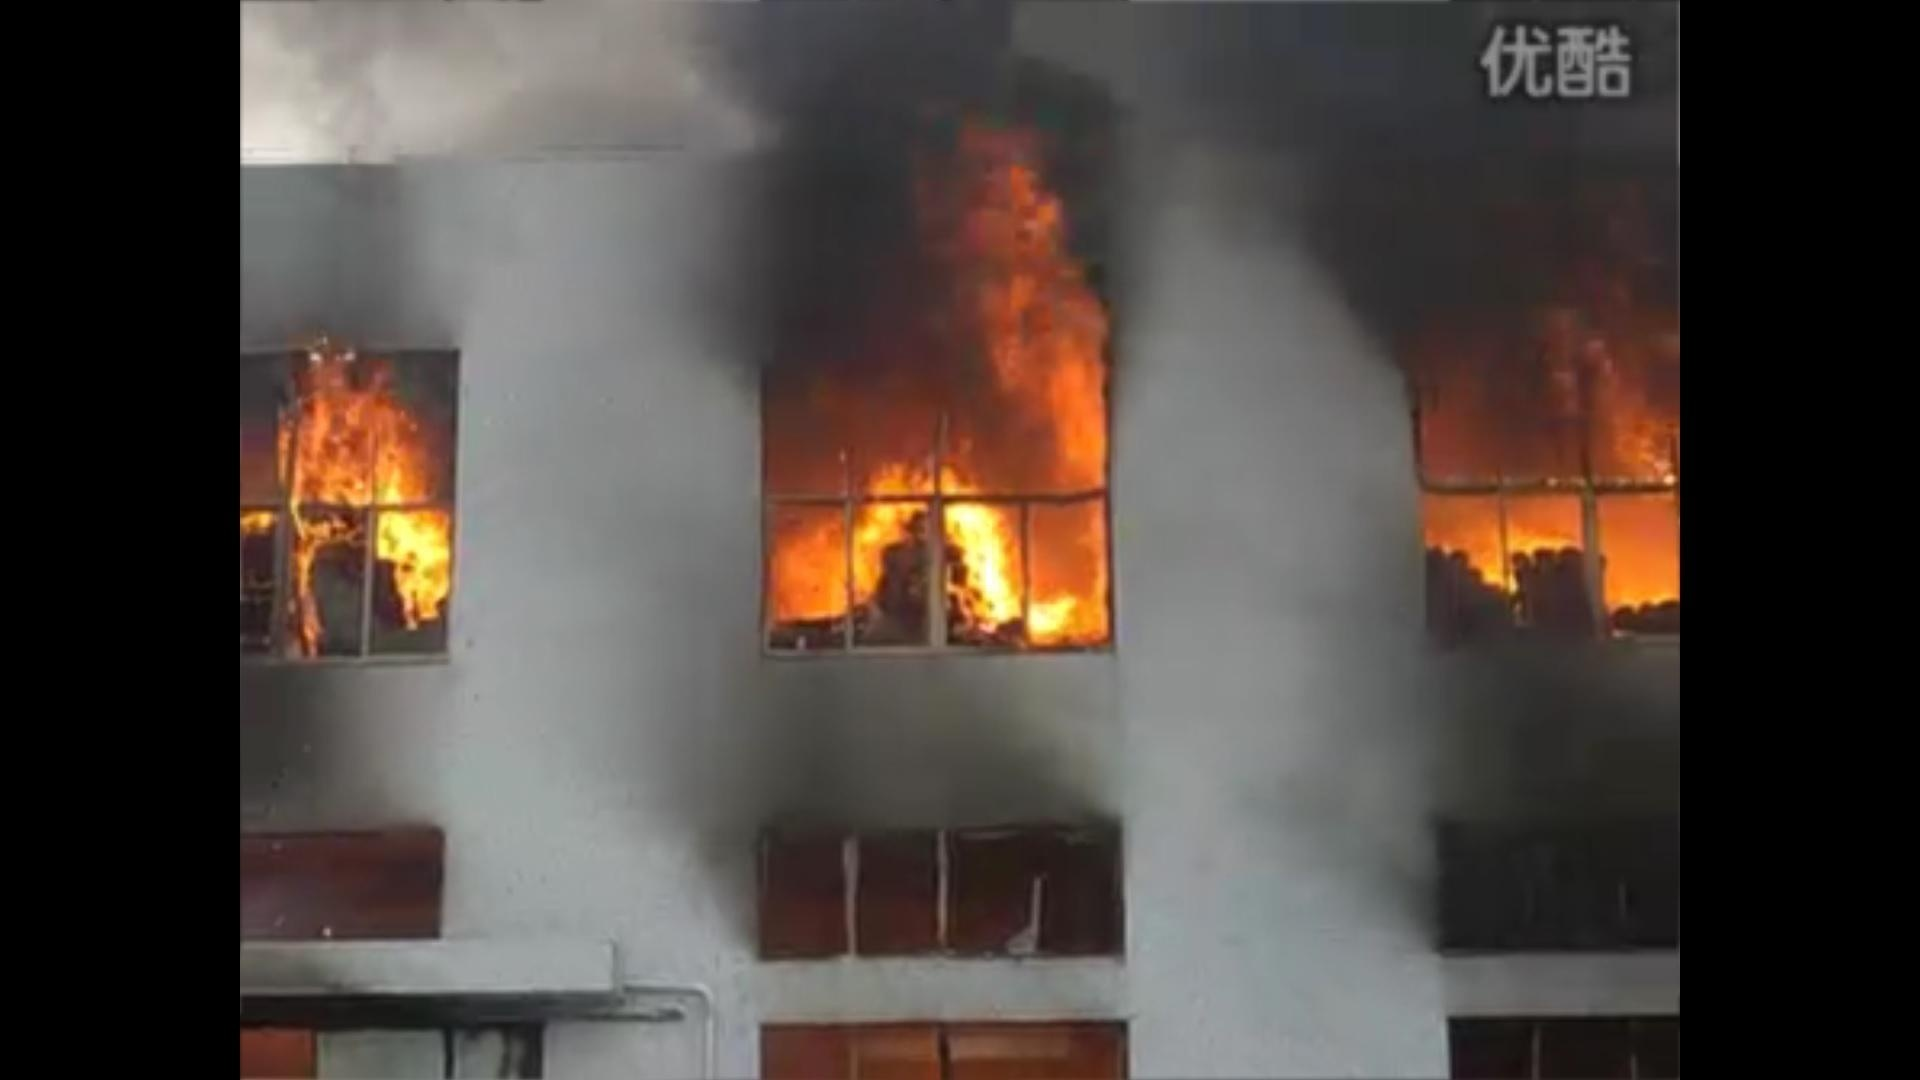fire: (766, 138, 1116, 659), (1418, 345, 1680, 616), (771, 454, 1112, 644), (262, 343, 454, 642)
